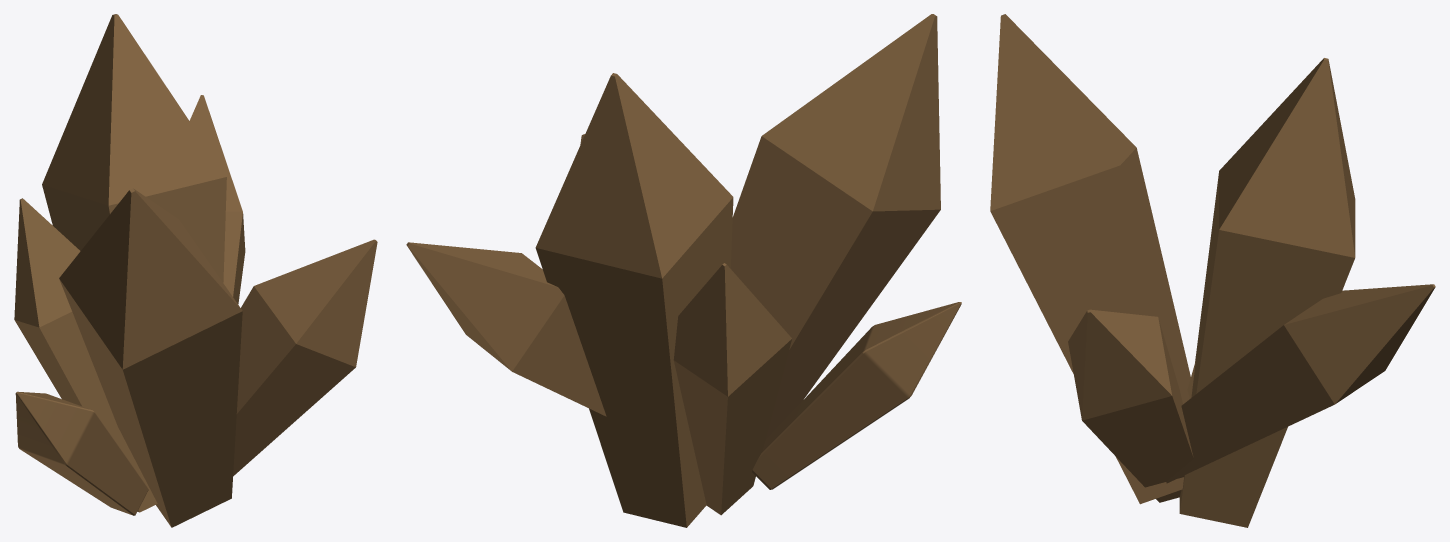
The model's file is Mineral2 2.fbx.
3 views of the same model, side by side, from view 1: azimuth 30°, elevation 25°; view 2: azimuth 150°, elevation 25°; view 3: azimuth 270°, elevation 25° (orthographic). The views are drawn at different scales.
Parts seen in each view (by area): view 1: pCube44; view 2: pCube44; view 3: pCube44.
Boxes of the visible parts, x1,y1,x2,y2 form: pCube44: [14, 14, 377, 527]; pCube44: [406, 14, 961, 527]; pCube44: [990, 14, 1435, 527].
Bounding box in the file's own units: 1.08 × 1.29 × 1.15.
